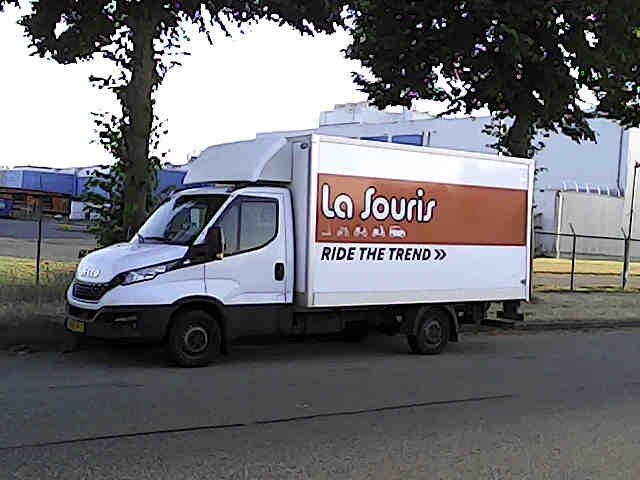whitevan: (66, 135, 533, 365)
